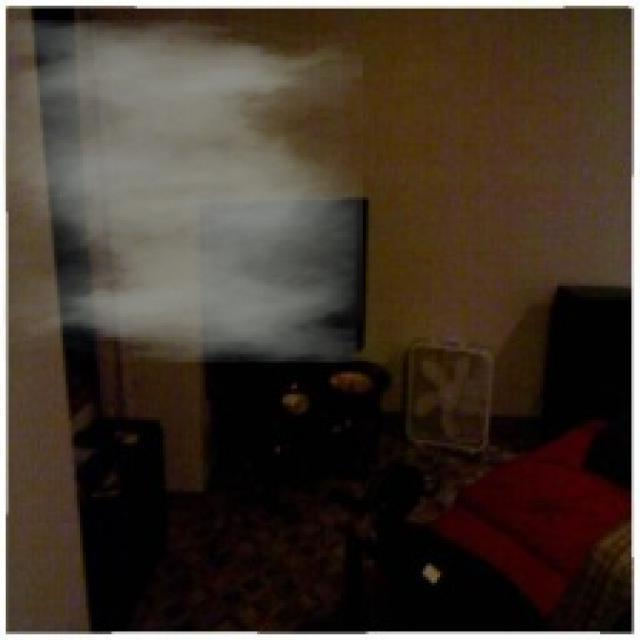Smoke: (3, 20, 363, 363)
